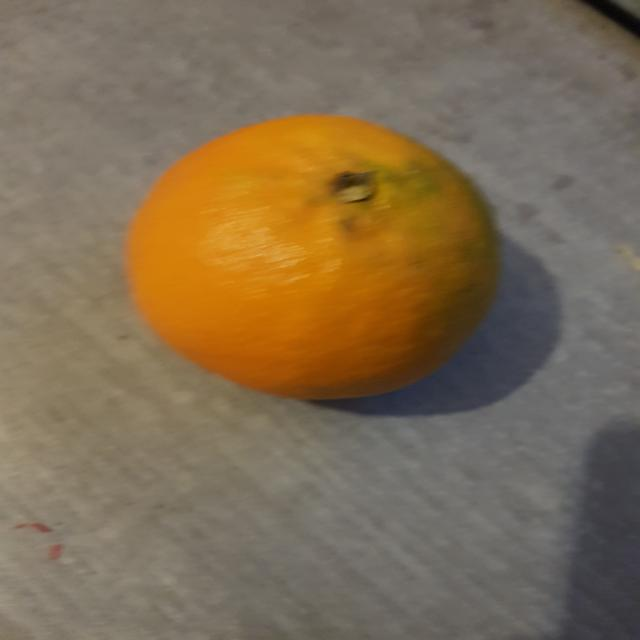Orange: (120, 115, 503, 404)
